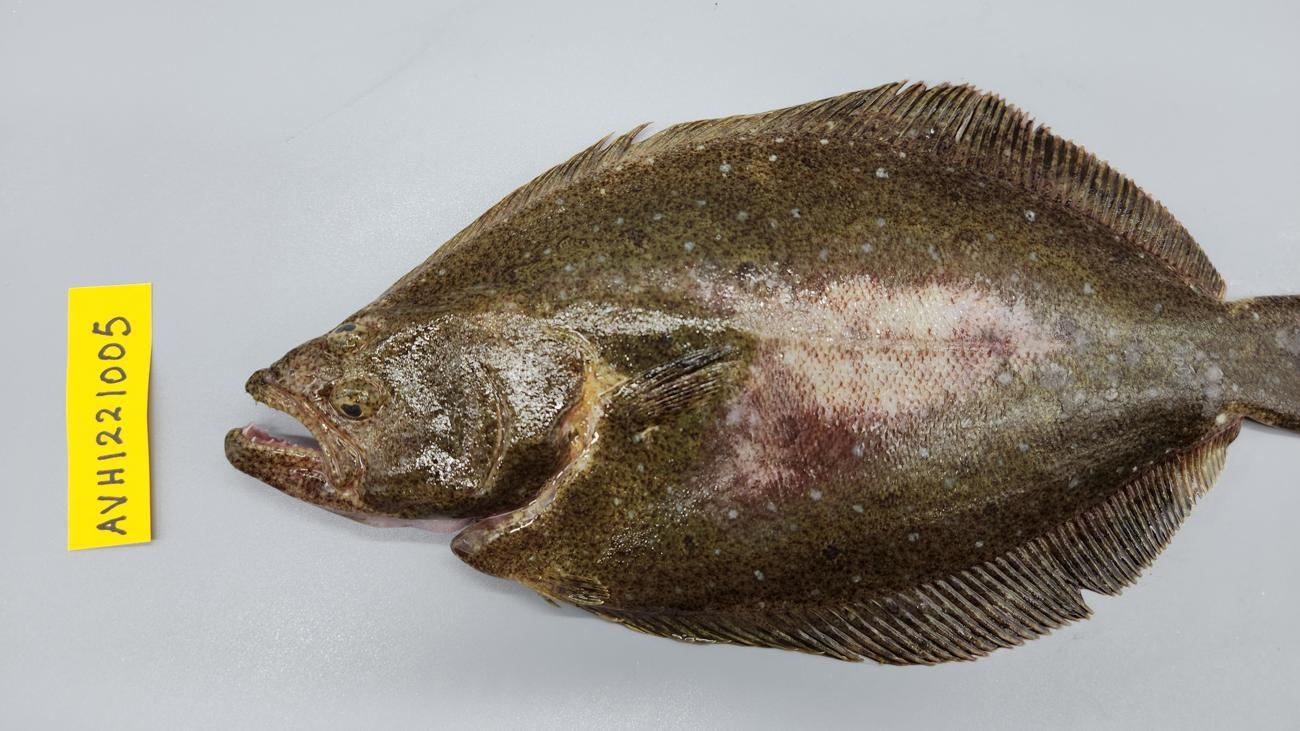VIDYH: (668, 249, 1094, 517)
VIDYU: (675, 259, 1081, 512)
